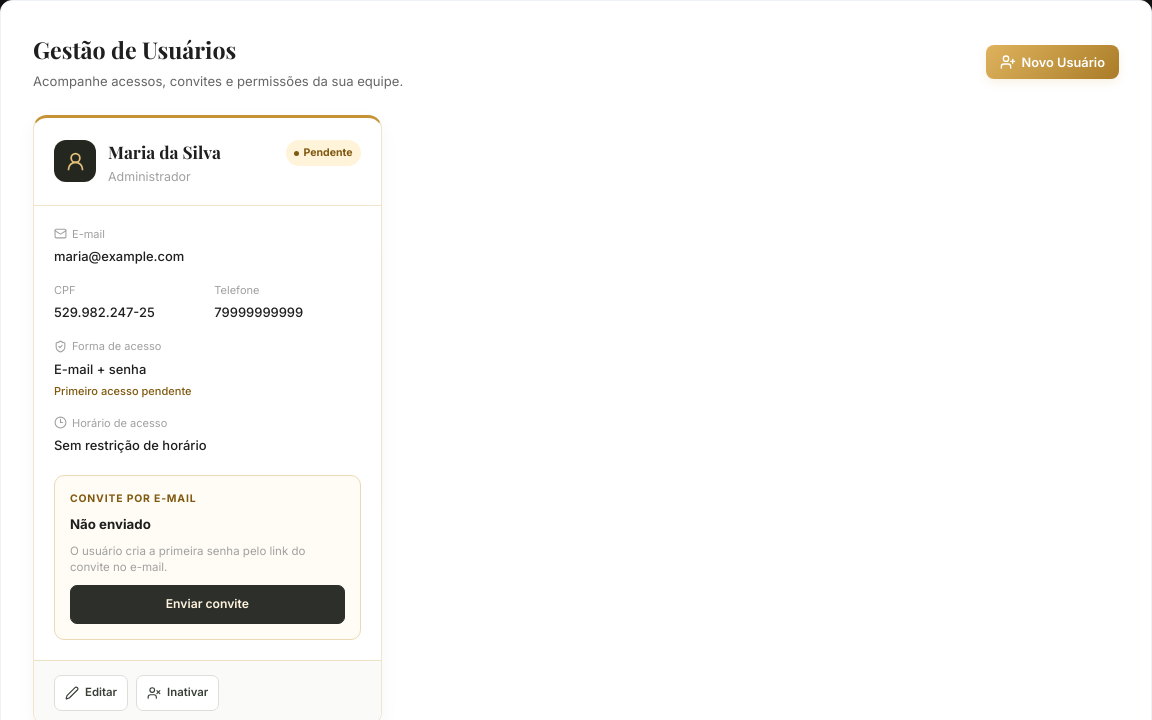
cadastro de usuário por convite › envia apenas por clique, impede duplicação durante envio e atualiza o status confirmado
The width and height of the screenshot is (1152, 720).
Expected: the text "Não enviado" is shown, [70,514,151,533]
Expected: the text "primeira senha pelo link do convite" is shown, [70,544,305,574]
Click the button "Enviar convite" at (207, 604), box [70,585,345,624]
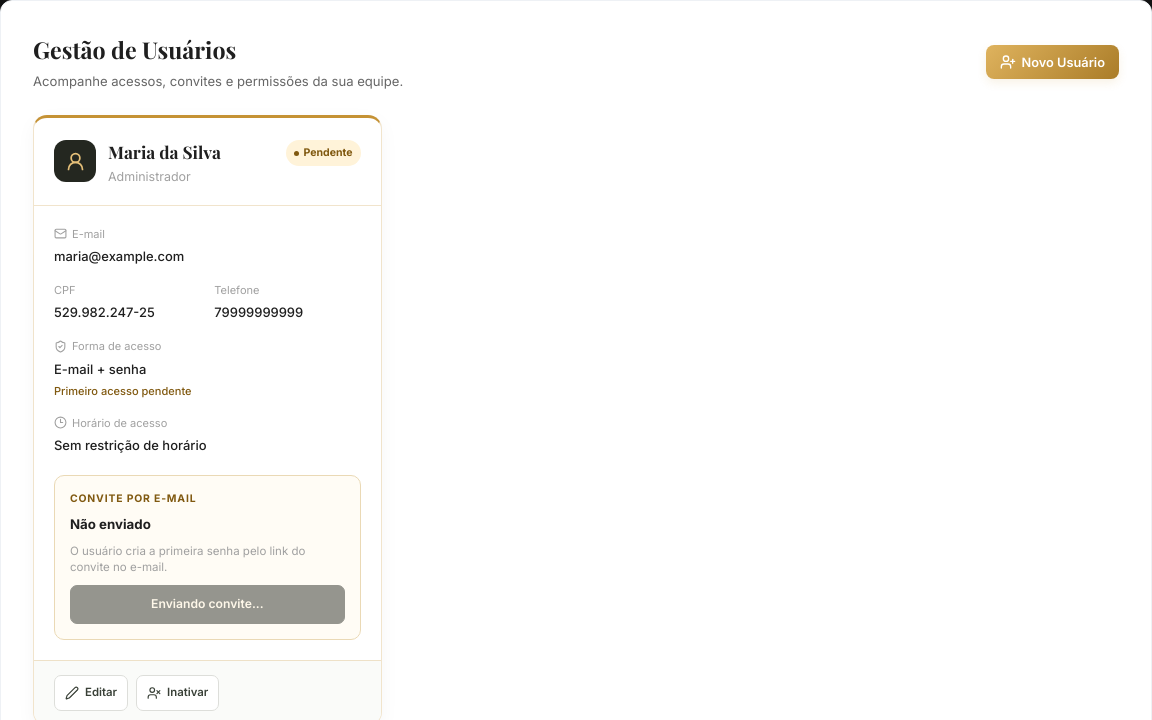
Expected: the button "Enviando convite..." is disabled
Click the button "Enviando convite..." at (207, 604), box [70,585,345,624]
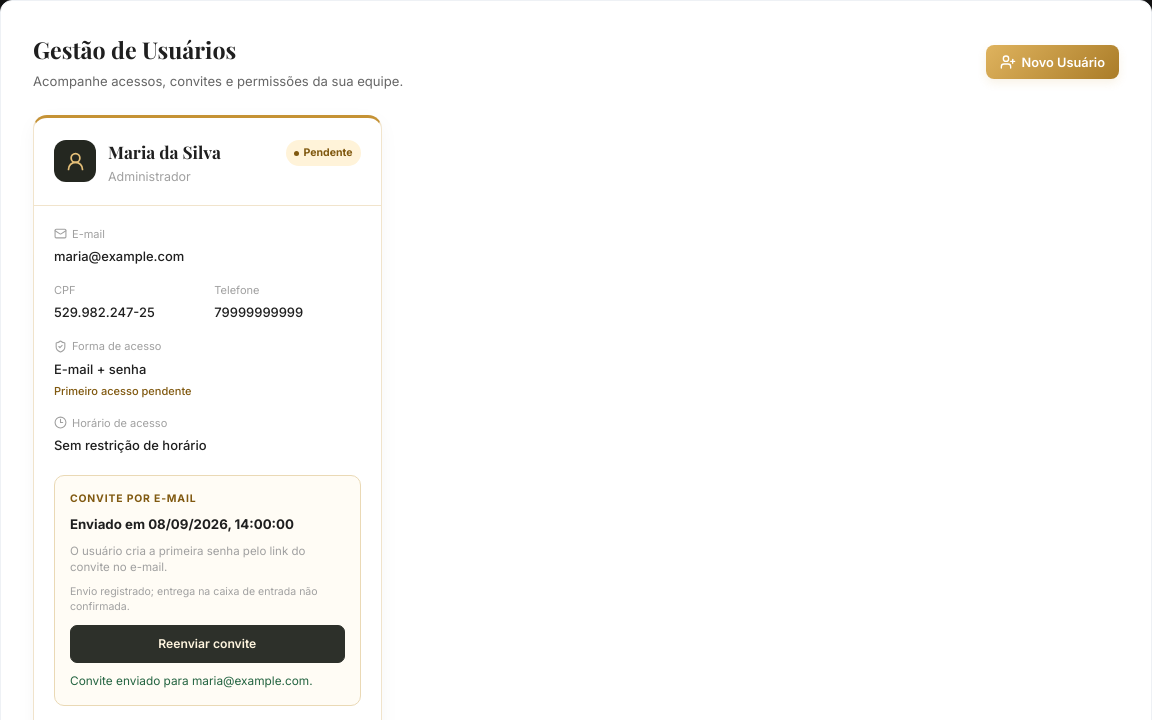
Expected: the message reads "Convite enviado para maria@example.com.", [70,673,313,690]
Expected: the text "Enviado em 08/09/2026, 14:00:00" is shown, [70,514,294,533]
Expected: the button "Reenviar convite" is shown, [70,625,345,663]
